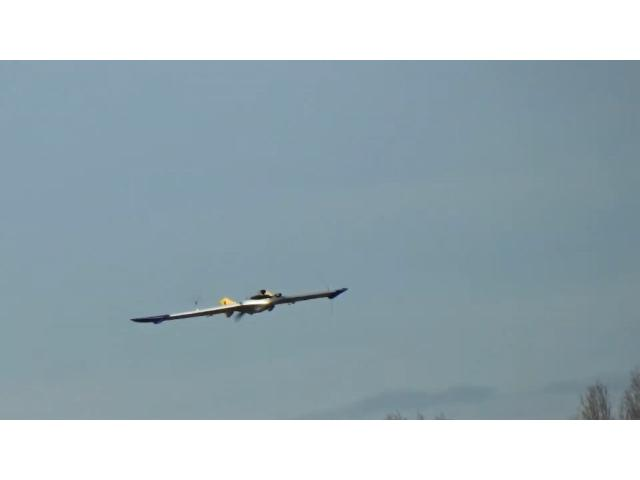Anti-Drone: (131, 288, 345, 324)
